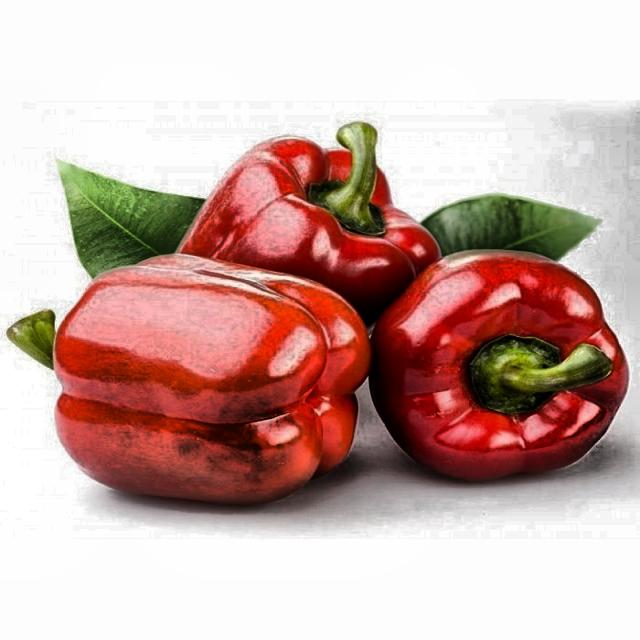red capsicum: (10, 111, 630, 541)
